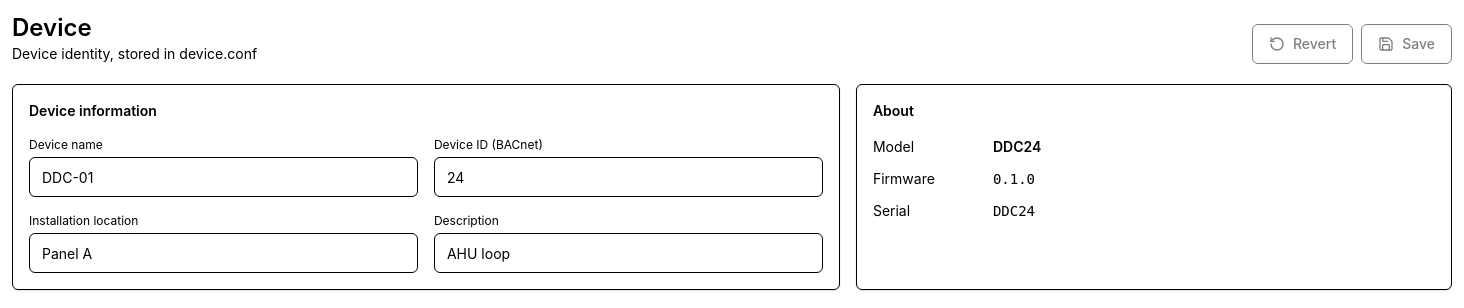
Scenario: SettingsPage device configuration › keeps Save disabled until something actually changed
Expected: the button "Save" is disabled, [1361,24,1452,64]
Type "!" into the field labelled "Description" at [628, 253], box [434,233,823,273]
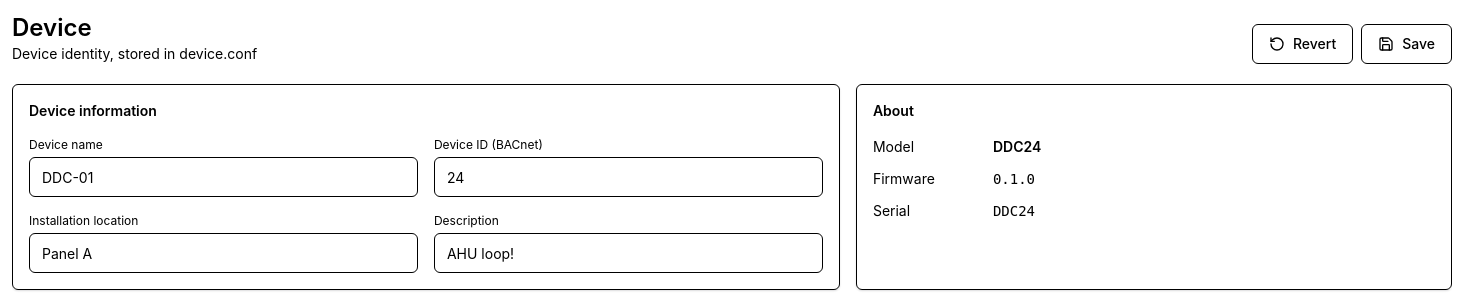
Expected: the button "Save" is enabled, [1361,24,1452,64]
